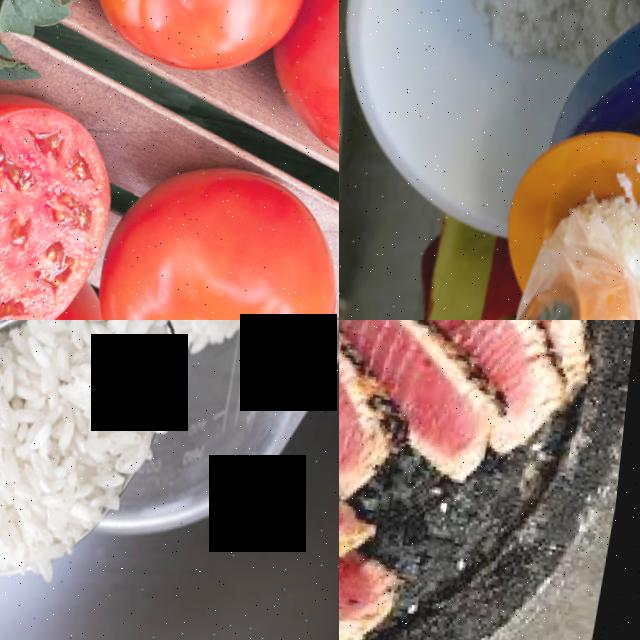tomato: (93, 135, 339, 320), (0, 70, 133, 320), (84, 0, 325, 80), (261, 0, 339, 161)
white rice: (0, 320, 160, 527), (501, 0, 624, 52), (612, 193, 640, 273)
